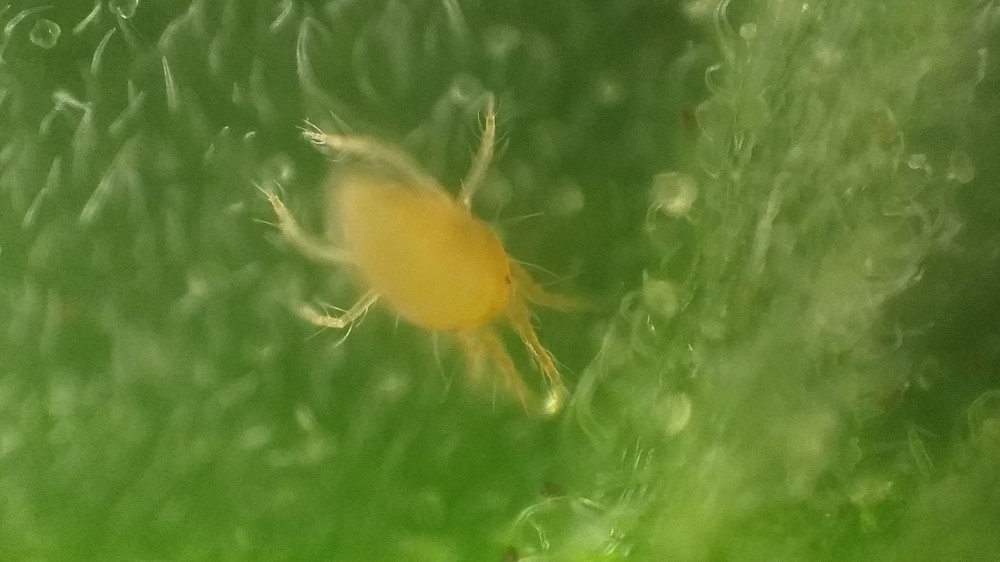Aracnido Rojo: (249, 92, 635, 437)
